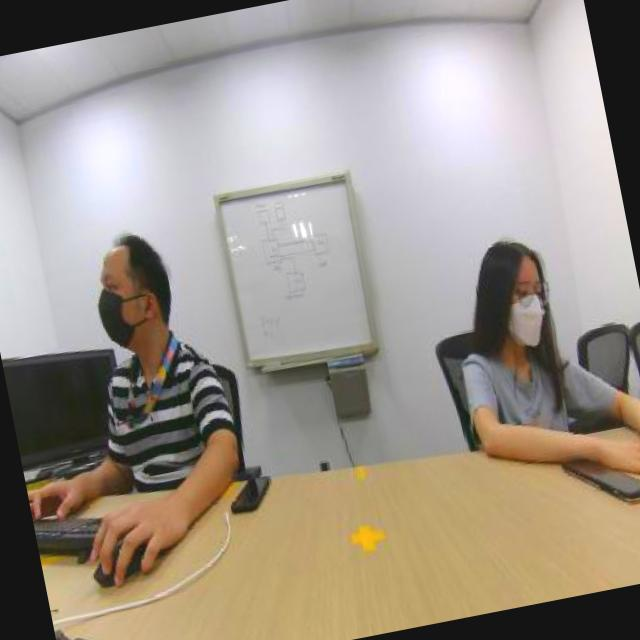Person: (66, 213, 272, 494), (430, 169, 640, 442)
